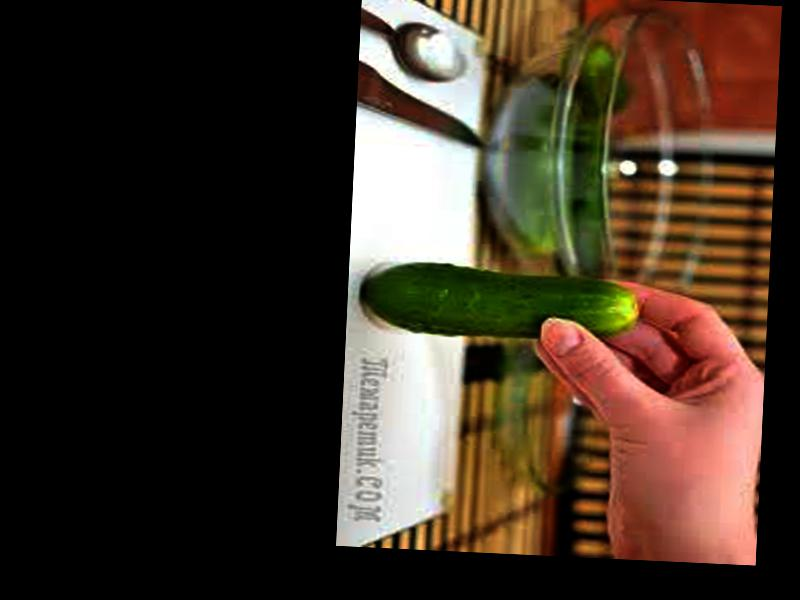Cucumber: (362, 260, 640, 343)
